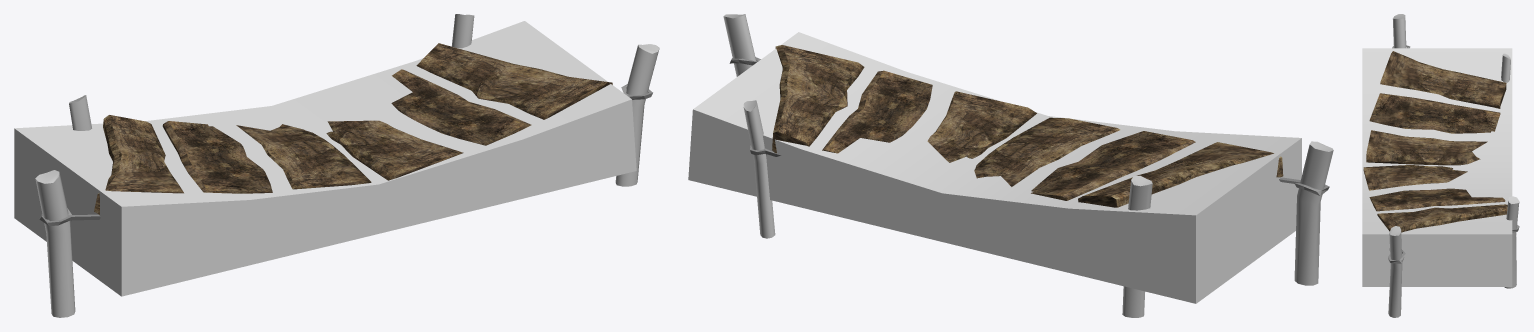
File: Ponticello01.FBX
3 renders of one model, left to right at view 1: azimuth 30°, elevation 25°; view 2: azimuth 150°, elevation 25°; view 3: azimuth 270°, elevation 25°, orthographic. The views are drawn at different scales.
Visible parts, largest first — view 1: coll, Ponticello01; view 2: coll, Ponticello01; view 3: coll, Ponticello01.
Part boxes in pixels (x1=…): coll: x1=14, y1=21, x2=636, y2=296; Ponticello01: x1=35, y1=14, x2=659, y2=317; coll: x1=688, y1=32, x2=1301, y2=303; Ponticello01: x1=723, y1=14, x2=1333, y2=317; coll: x1=1362, y1=48, x2=1512, y2=286; Ponticello01: x1=1363, y1=14, x2=1519, y2=317.
Size of the model in its own units: 21.23 by 4.98 by 6.68.
